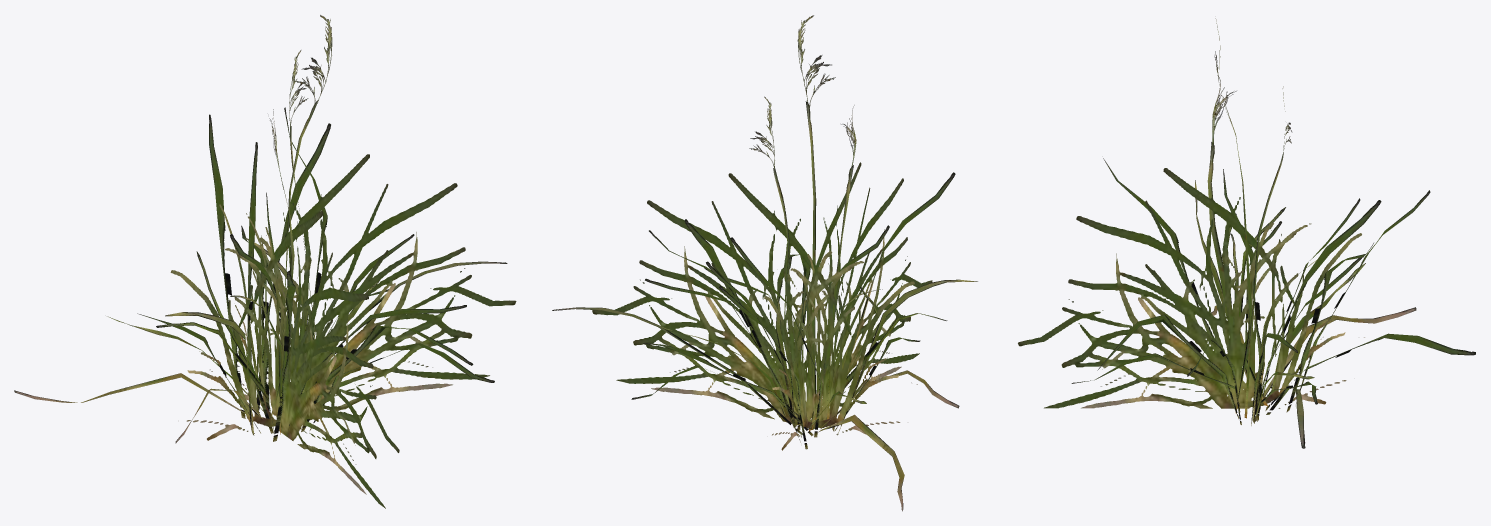
The model's file is capim_0.glb.
3 renders of one model, left to right at view 1: azimuth 30°, elevation 25°; view 2: azimuth 150°, elevation 25°; view 3: azimuth 270°, elevation 25°, orthographic. The views are drawn at different scales.
Visible parts, largest first — view 1: capim; view 2: capim; view 3: capim.
Part boxes in pixels (x1,y1,x2,y2): capim: [14, 15, 516, 508]; capim: [552, 15, 977, 511]; capim: [1018, 18, 1475, 448].
Bounding box in the file's own units: 0.3944 × 0.3732 × 0.3828.
1 material, 1 textured.
